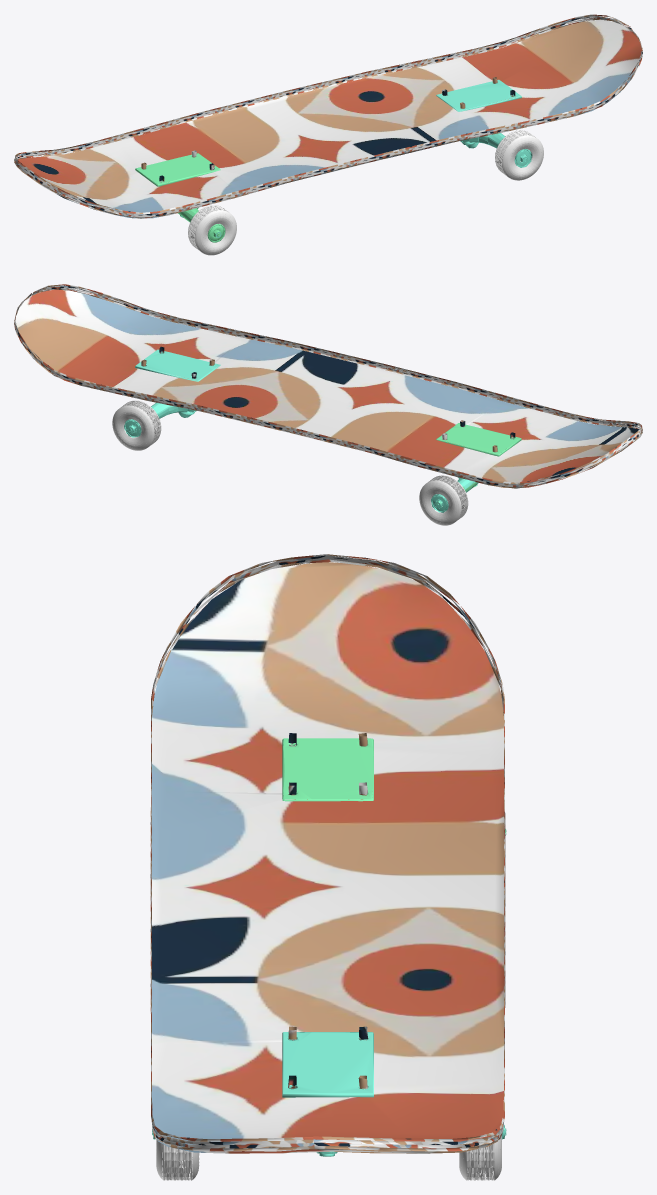
Rendered from board2.glb.
3 renders of one model, top to bottom at view 1: azimuth 30°, elevation 25°; view 2: azimuth 150°, elevation 25°; view 3: azimuth 270°, elevation 25°, orthographic. The views are drawn at different scales.
Visible parts, largest first — view 1: Skateboard, Skateboard1, Skateboard1_0.001, Skateboard1_2.001; view 2: Skateboard, Skateboard1, Skateboard1_0.001, Skateboard1_2.001; view 3: Skateboard, Skateboard1, Skateboard1_0.001, Skateboard1_2.001.
Boxes of the visible parts, bbox=[...] form: Skateboard: bbox=[14, 14, 642, 218]; Skateboard1: bbox=[180, 79, 532, 255]; Skateboard1_0.001: bbox=[135, 153, 225, 242]; Skateboard1_2.001: bbox=[188, 130, 543, 254]; Skateboard: bbox=[14, 284, 642, 488]; Skateboard1: bbox=[112, 349, 478, 525]; Skateboard1_0.001: bbox=[436, 423, 521, 506]; Skateboard1_2.001: bbox=[113, 400, 467, 520]; Skateboard: bbox=[150, 554, 505, 1153]; Skateboard1: bbox=[152, 829, 506, 1180]; Skateboard1_0.001: bbox=[282, 738, 506, 833]; Skateboard1_2.001: bbox=[156, 1139, 501, 1180].
Size of the model in its own units: 8.63 by 1.24 by 2.21.
Materials: 4 (1 with a texture image).
